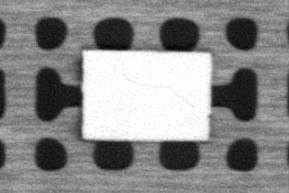DIE_CRACK: (121, 73, 194, 107)
